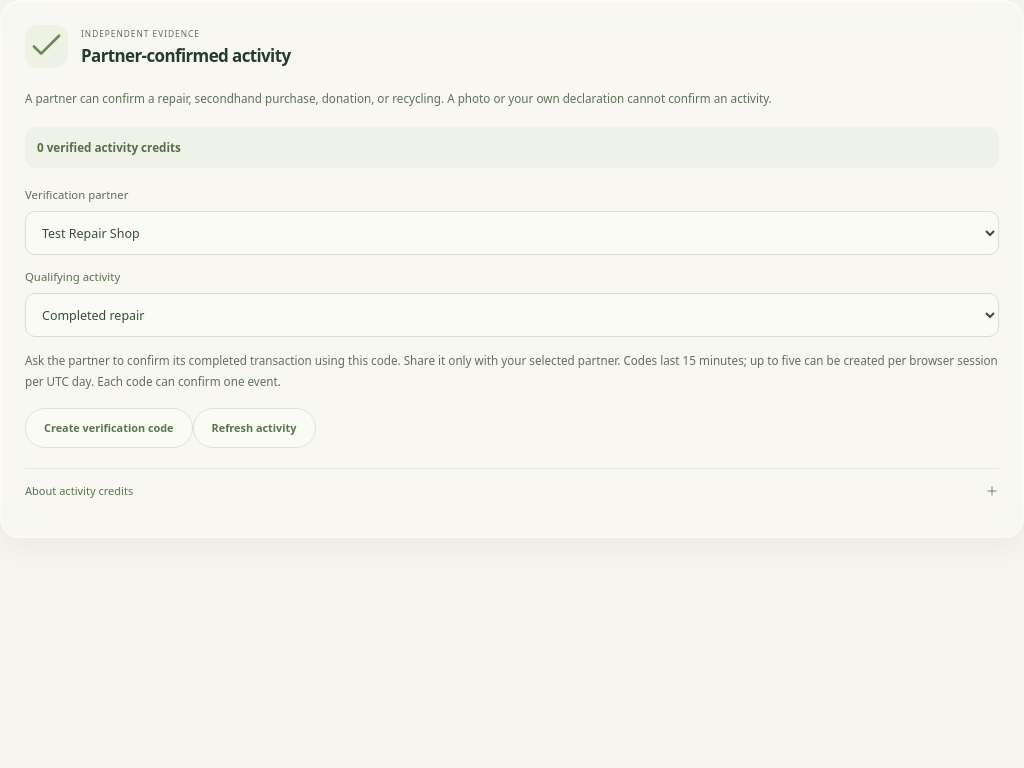
Test case: partner activity review › does not claim success when creating a code fails
The width and height of the screenshot is (1024, 768).
Expected: the dropdown labelled "Verification partner" is shown, [25,211,999,255]
Click the button "Create verification code" at [109, 428], box [25,408,192,448]
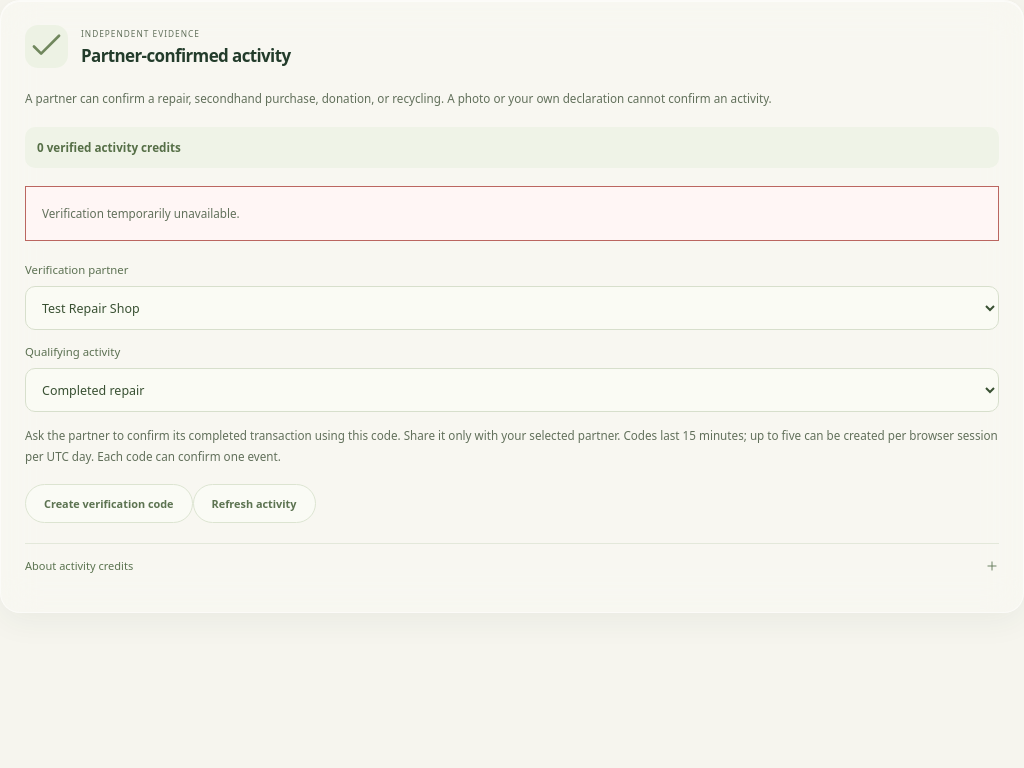
Expected: the text "0 verified activity credits" is shown, [37,140,181,155]
Expected: the message shows "temporarily unavailable", [42,206,240,221]
